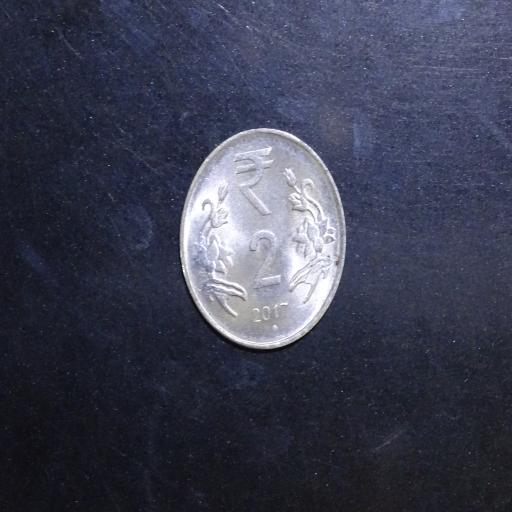rupee2: (176, 128, 347, 350)
